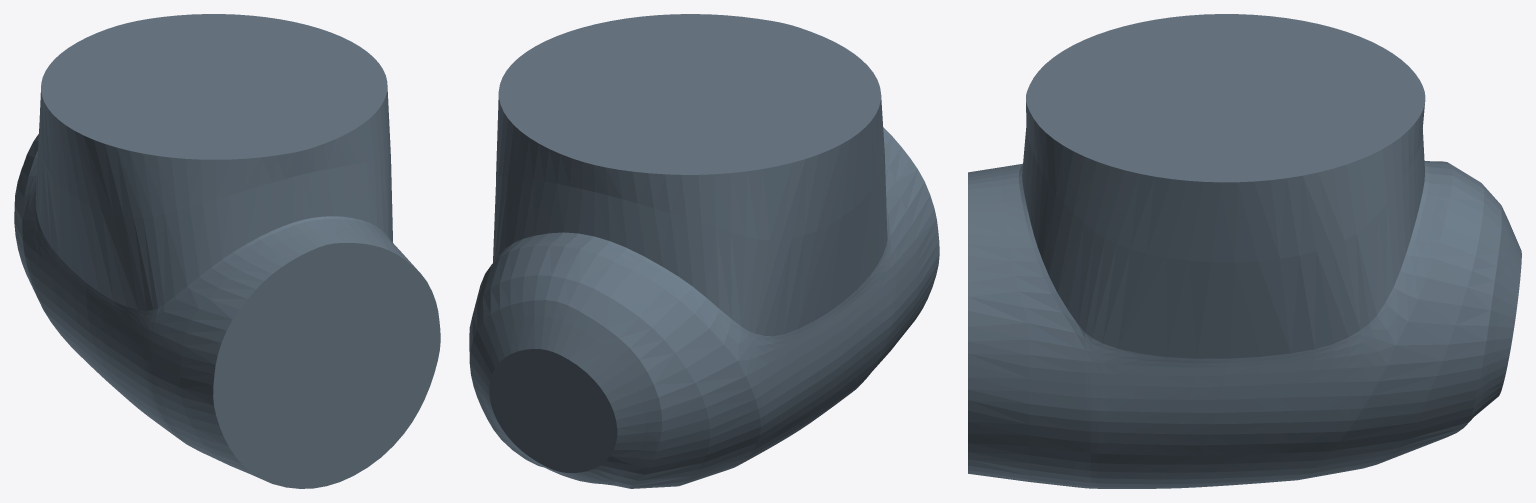
The picture shows the model from 3 angles, left to right: view 1: azimuth 30°, elevation 25°; view 2: azimuth 150°, elevation 25°; view 3: azimuth 270°, elevation 25°; orthographic projection. The views are drawn at different scales.
Visible parts, largest first — view 1: MF0617_3_0; view 2: MF0617_3_0; view 3: MF0617_3_0.
Boxes of the visible parts, x1,y1,x2,y2 form: MF0617_3_0: (14, 14, 440, 488); MF0617_3_0: (469, 14, 939, 488); MF0617_3_0: (968, 14, 1521, 488).
Bounding box in the file's own units: 130 × 181 × 135.
